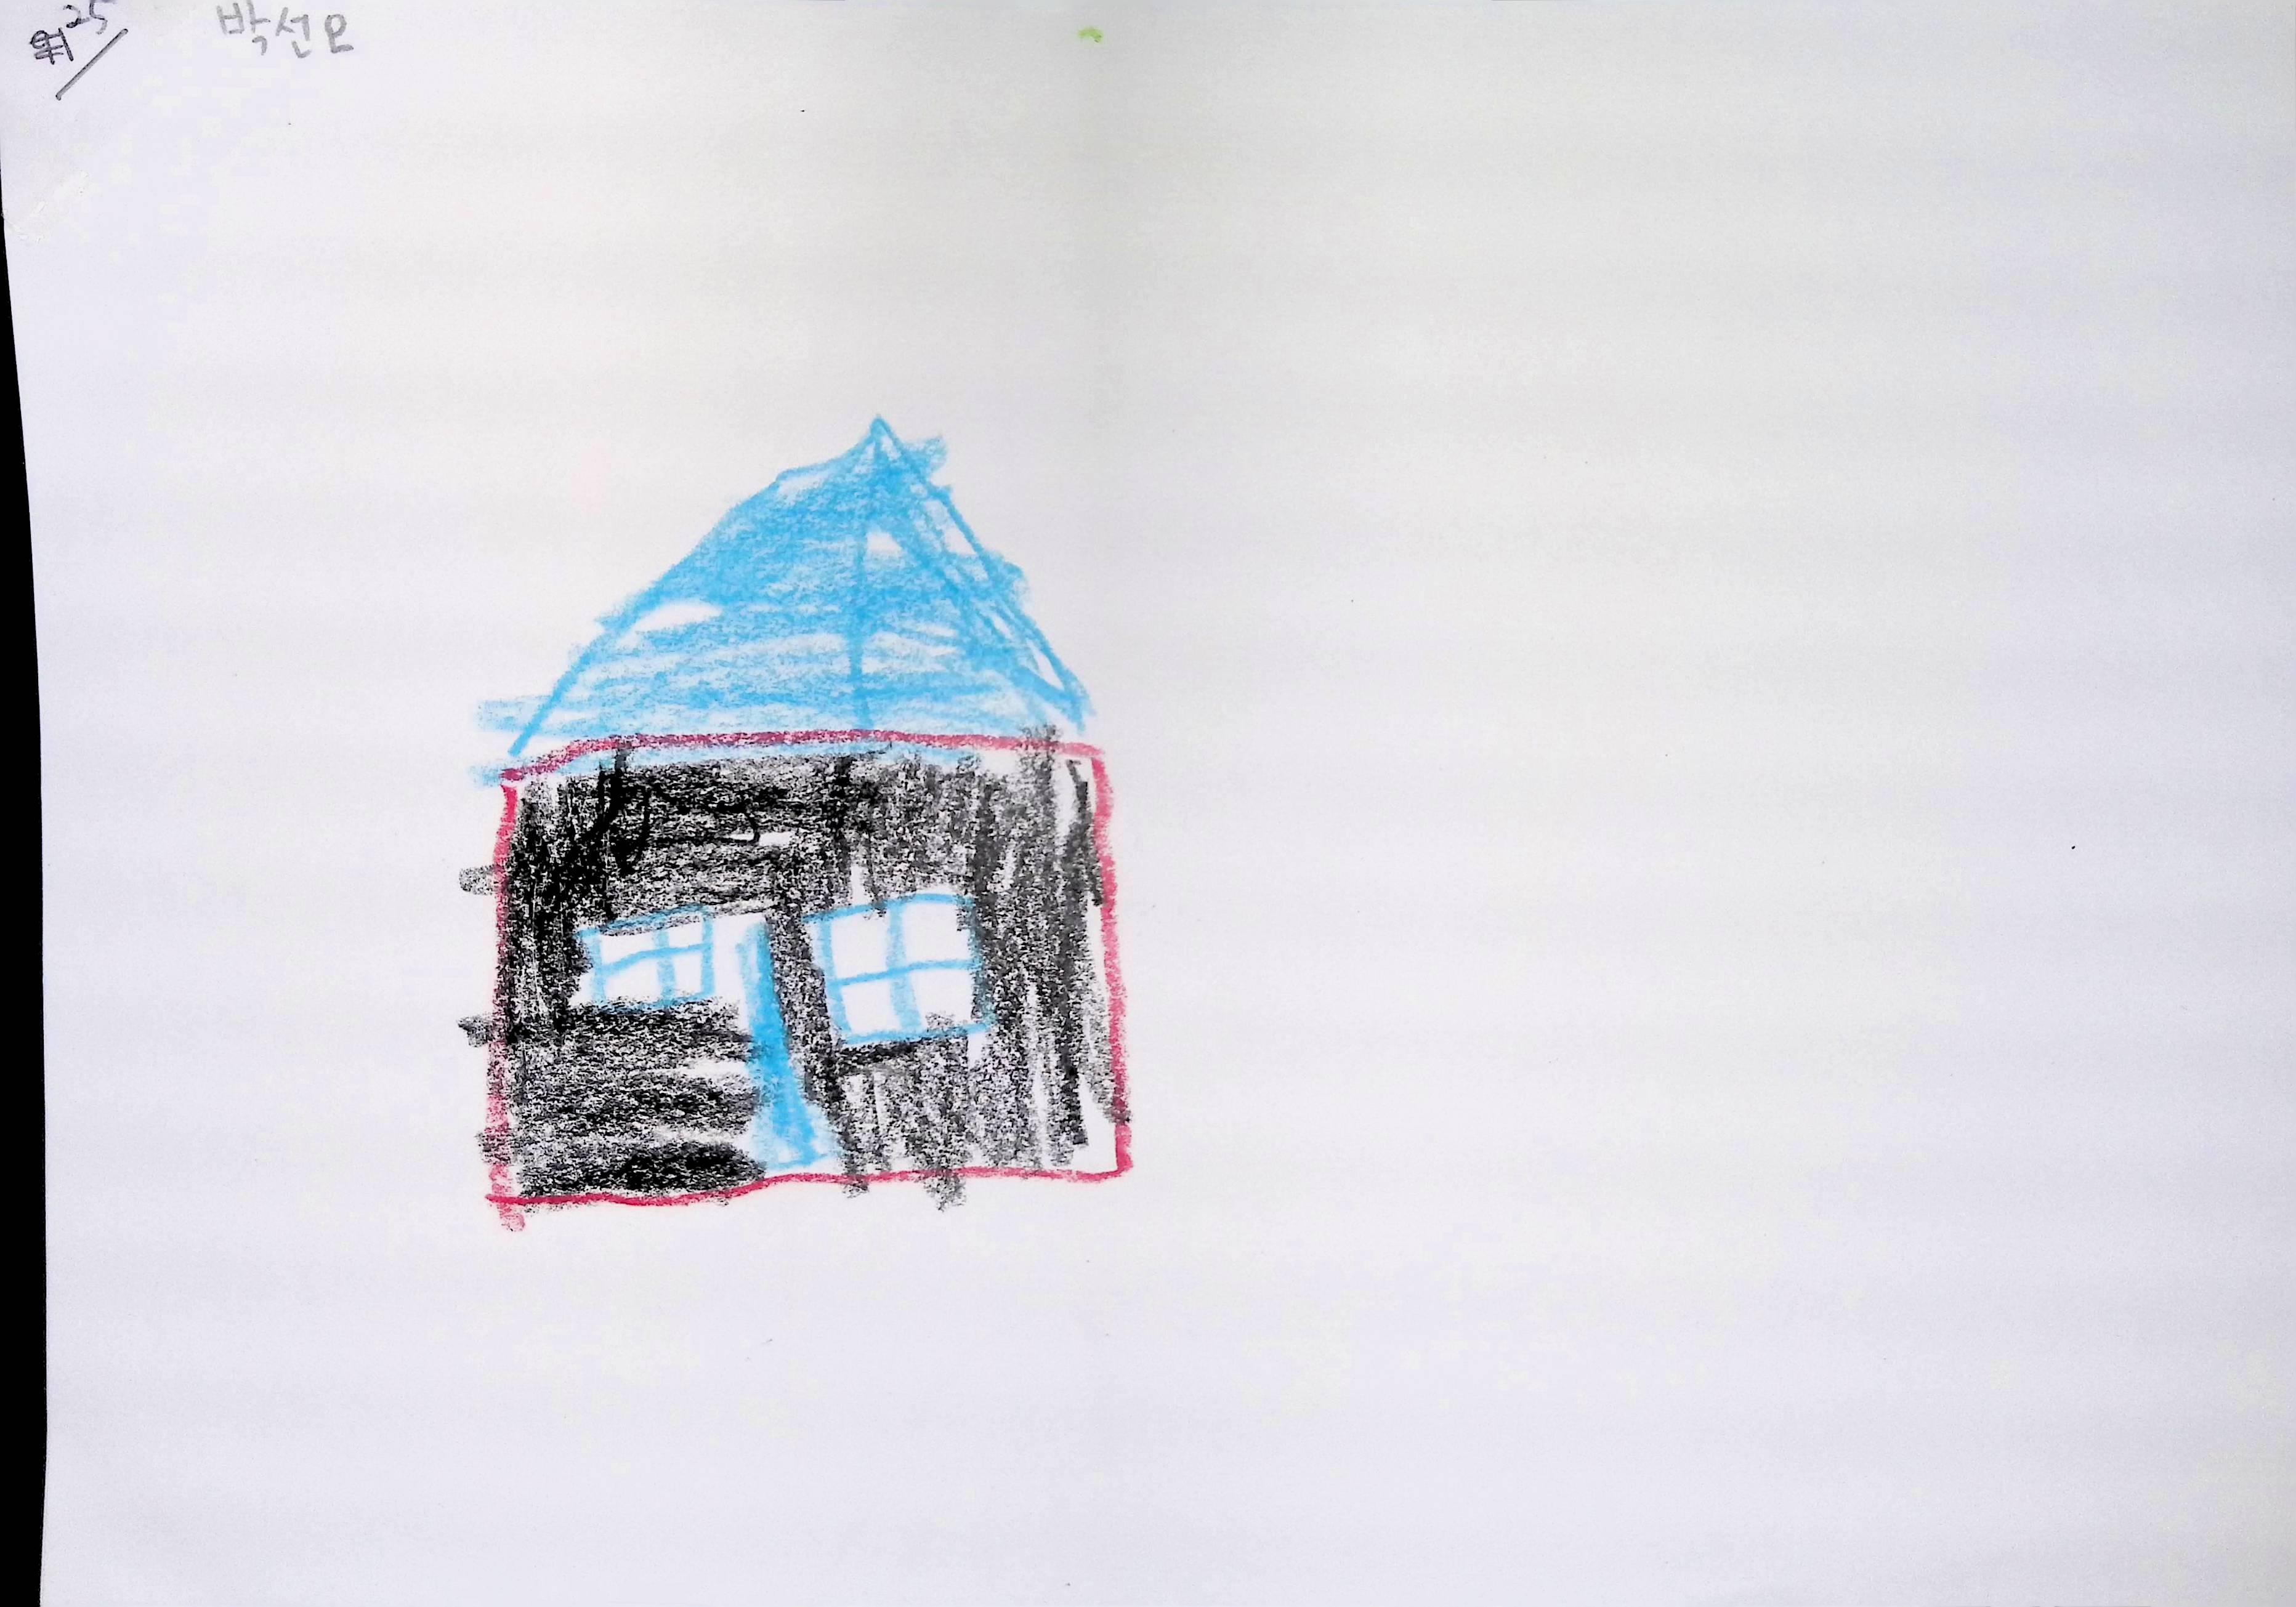door: (714, 914, 837, 1174)
house: (482, 419, 1129, 1218)
roof: (485, 417, 1090, 757)
wall: (494, 736, 1125, 1202)
window: (804, 892, 984, 1047), (571, 906, 712, 1009)
